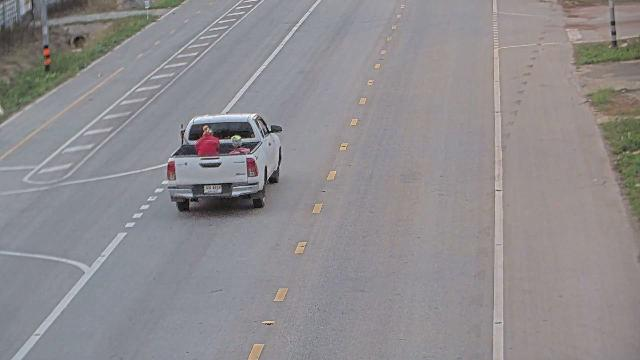pickup-truck: (164, 112, 283, 212)
